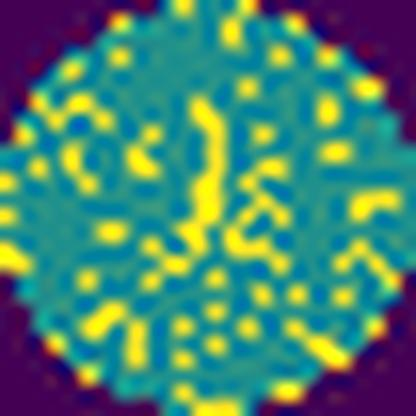Center: (140, 92, 296, 294)
